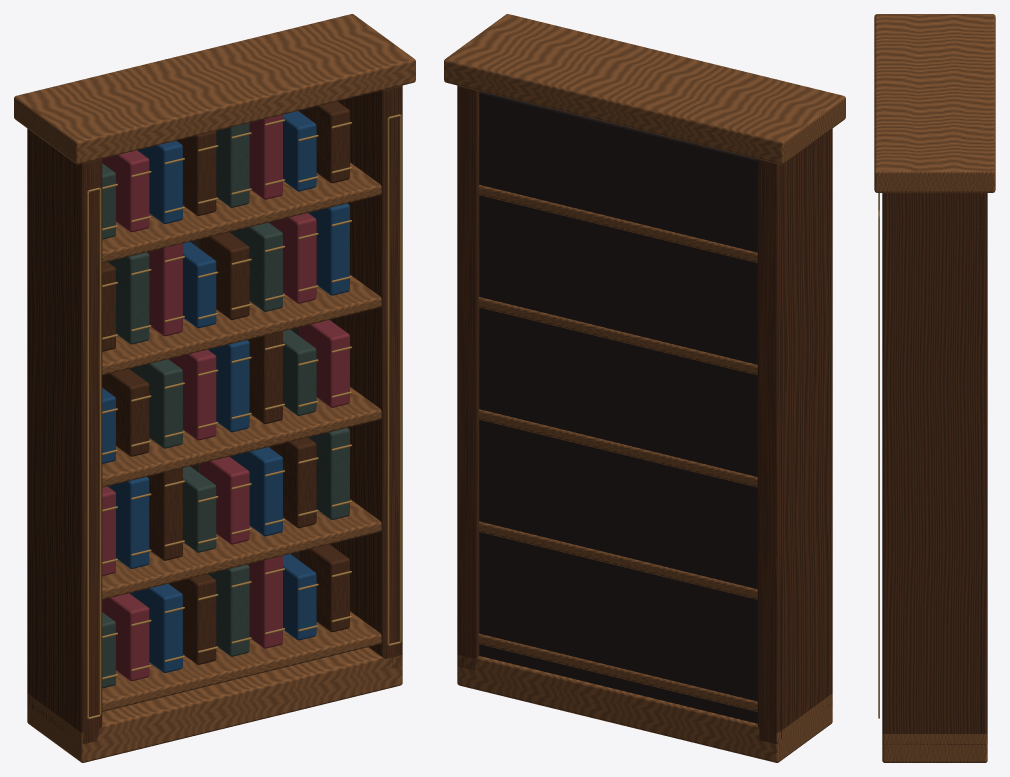
Rendered from bookshelf.glb.
3 renders of one model, left to right at view 1: azimuth 30°, elevation 25°; view 2: azimuth 150°, elevation 25°; view 3: azimuth 270°, elevation 25°, orthographic. The views are drawn at different scales.
Parts seen in each view (by area): view 1: bookshelf; view 2: bookshelf; view 3: bookshelf.
Boxes of the visible parts, <box> form: bookshelf: <box>14,14,415,762</box>; bookshelf: <box>444,14,845,762</box>; bookshelf: <box>874,14,995,762</box>.
Bounding box in the file's own units: 1.05 × 1.85 × 0.34.
7 materials, 3 textured.
